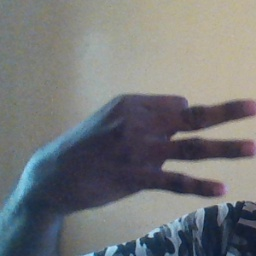K: (44, 93, 256, 202)
